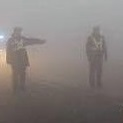person: (5, 25, 45, 92), (84, 24, 109, 90)
